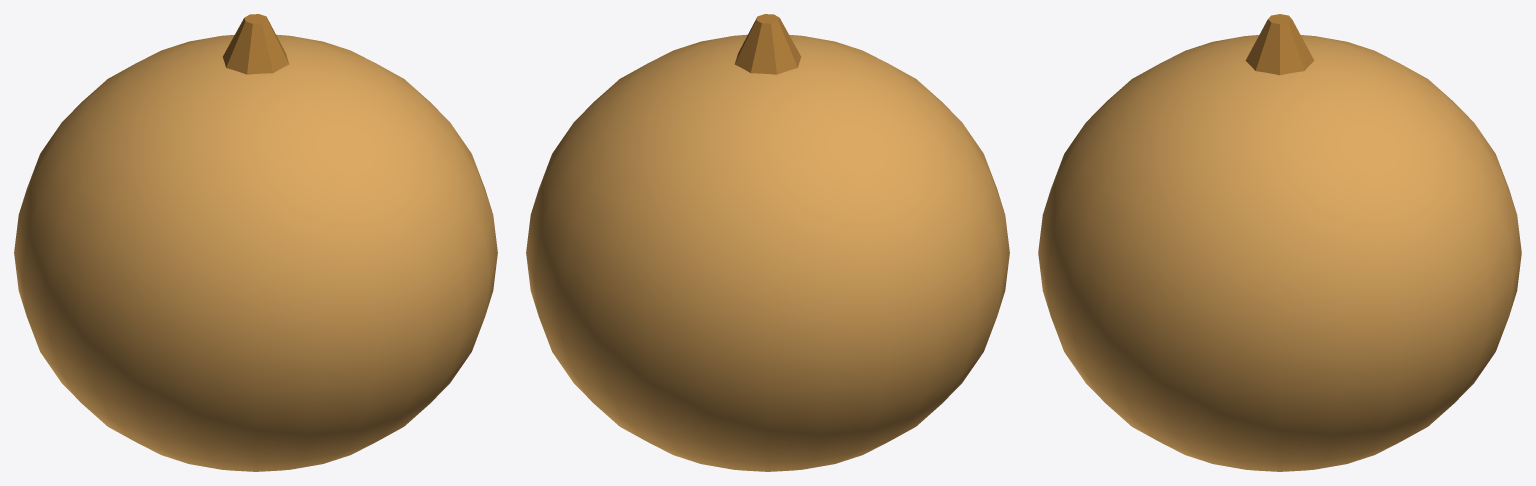
The model's file is Onion.fbx.
3 views of the same model, side by side, from view 1: azimuth 30°, elevation 25°; view 2: azimuth 150°, elevation 25°; view 3: azimuth 270°, elevation 25° (orthographic).
Visible parts, largest first — view 1: Onion; view 2: Onion; view 3: Onion.
Part boxes in pixels (bbox=[...]): Onion: bbox=[14, 14, 497, 471]; Onion: bbox=[526, 14, 1009, 471]; Onion: bbox=[1038, 14, 1521, 471].
Size of the model in its own units: 0.09 by 0.088 by 0.09.
